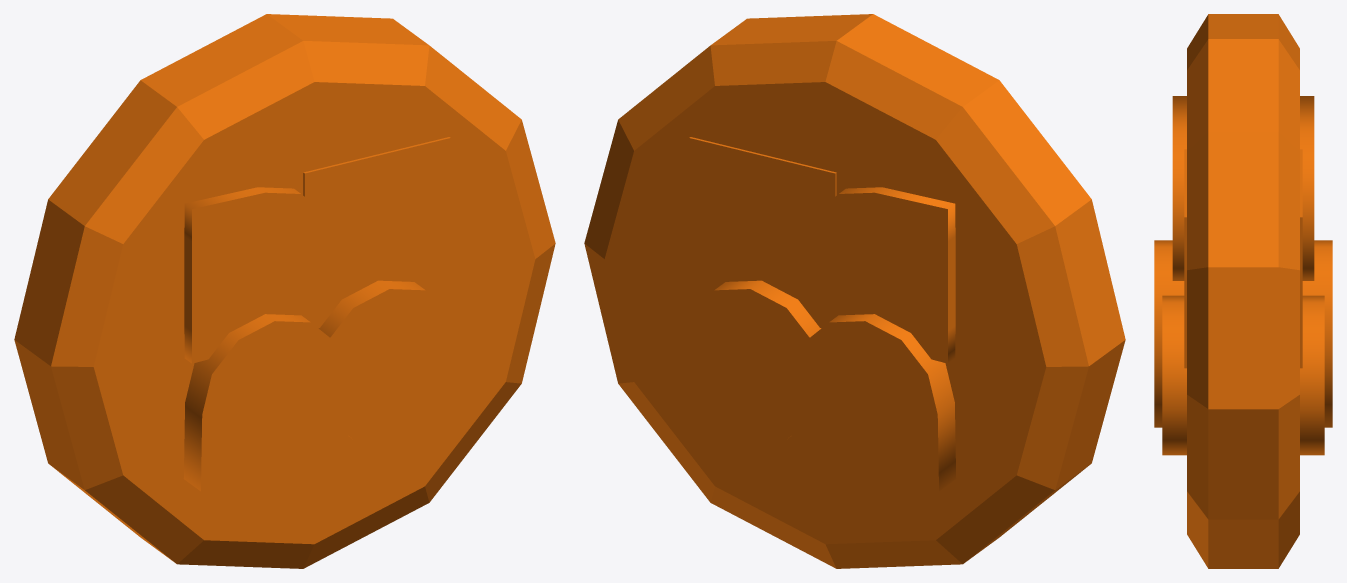
File: coin_.FBX
The picture shows the model from 3 angles, left to right: view 1: azimuth 30°, elevation 25°; view 2: azimuth 150°, elevation 25°; view 3: azimuth 270°, elevation 25°; orthographic projection. The views are drawn at different scales.
Parts seen in each view (by area): view 1: Cylinder002; view 2: Cylinder002; view 3: Cylinder002.
Part boxes in pixels (x1=…): Cylinder002: x1=14, y1=14, x2=555, y2=568; Cylinder002: x1=584, y1=14, x2=1125, y2=568; Cylinder002: x1=1154, y1=14, x2=1332, y2=568.
Size of the model in its own units: 72.82 by 72.82 by 23.32.
